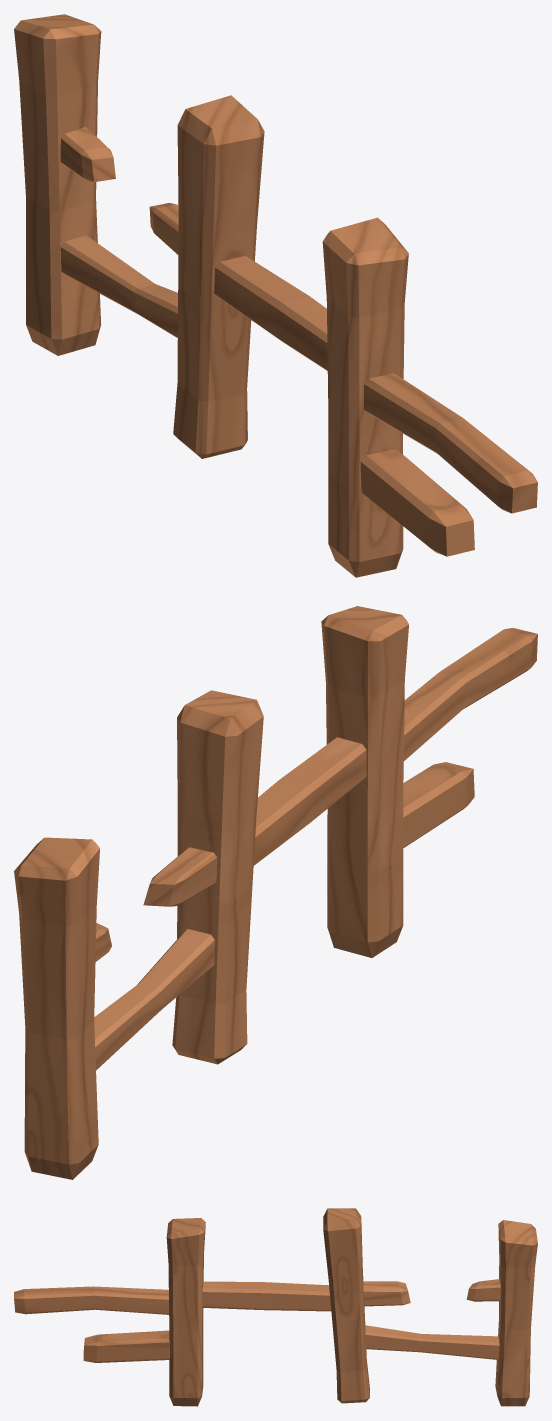
File: BrokenFence.fbx
The picture shows the model from 3 angles, top to bottom: view 1: azimuth 30°, elevation 25°; view 2: azimuth 150°, elevation 25°; view 3: azimuth 270°, elevation 25°; orthographic projection. The views are drawn at different scales.
Parts seen in each view (by area): view 1: Cube.044; view 2: Cube.044; view 3: Cube.044.
Boxes of the visible parts, x1,y1,x2,y2 form: Cube.044: (14, 14, 537, 577); Cube.044: (14, 606, 537, 1179); Cube.044: (14, 1208, 537, 1406).
Size of the model in its own units: 243 by 1262 by 3181.
Materials: 1 (1 with a texture image).
